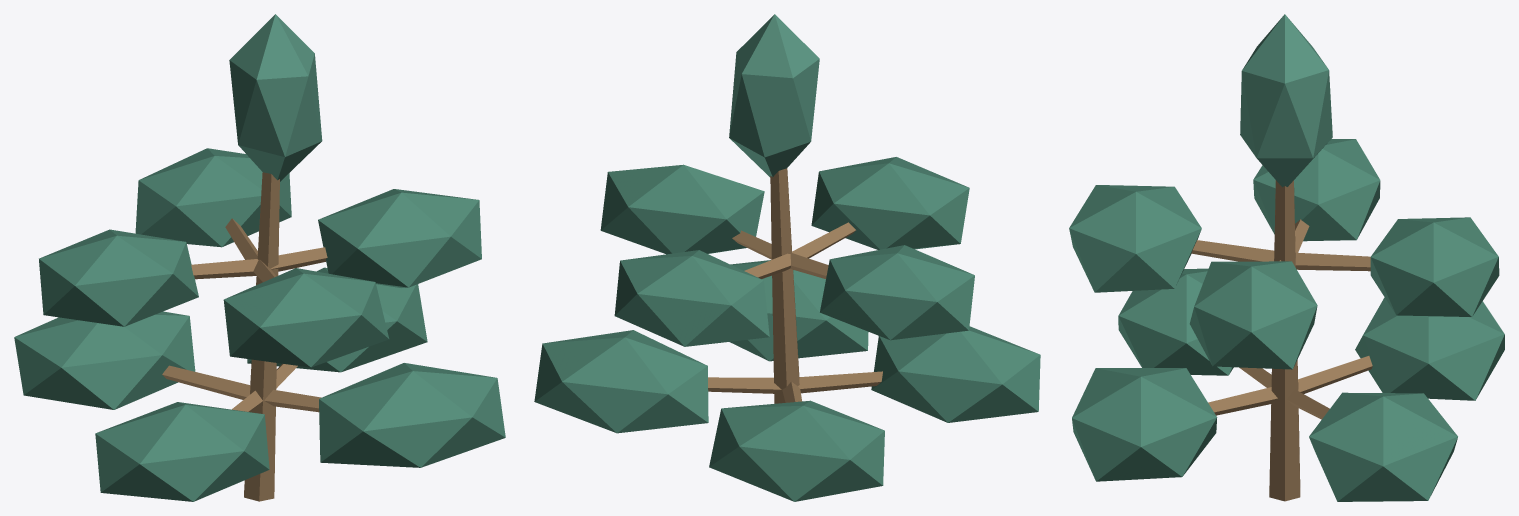
Rendered from conifer_sapling_02.glb.
3 views of the same model, side by side, from view 1: azimuth 30°, elevation 25°; view 2: azimuth 150°, elevation 25°; view 3: azimuth 270°, elevation 25° (orthographic). The views are drawn at different scales.
Parts seen in each view (by area): view 1: Conifer_sapling_02; view 2: Conifer_sapling_02; view 3: Conifer_sapling_02.
Part boxes in pixels (x1=…): Conifer_sapling_02: x1=14, y1=14, x2=505, y2=501; Conifer_sapling_02: x1=534, y1=14, x2=1040, y2=501; Conifer_sapling_02: x1=1069, y1=14, x2=1504, y2=501.
Bounding box in the file's own units: 1.78 × 1.96 × 1.59.
